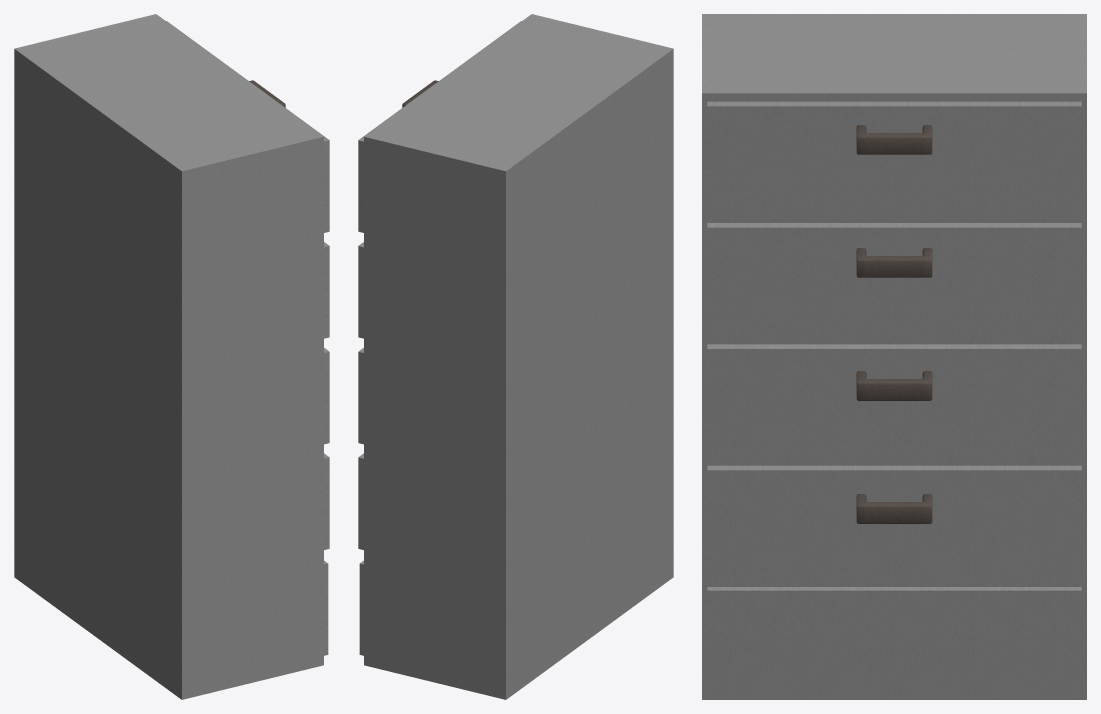
File: filingCabinet.glb
3 views of the same model, side by side, from view 1: azimuth 30°, elevation 25°; view 2: azimuth 150°, elevation 25°; view 3: azimuth 270°, elevation 25° (orthographic). The views are drawn at different scales.
Visible parts, largest first — view 1: filing-cabinet; view 2: filing-cabinet; view 3: filing-cabinet, handle.001.
Boxes of the visible parts, x1,y1,x2,y2 form: filing-cabinet: (14,14,329,699); filing-cabinet: (358,14,673,699); filing-cabinet: (702,14,1086,699); handle.001: (856,125,932,523).
Size of the model in its own units: 0.7544 by 2.22 by 1.27.
Materials: 2 (2 with a texture image).
